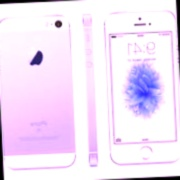iphone: (1, 14, 74, 167), (107, 14, 180, 167), (85, 14, 94, 167)
